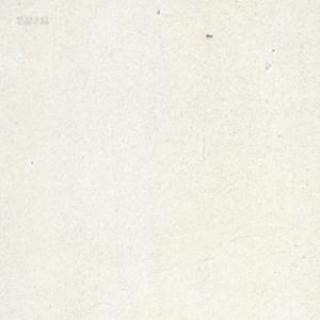Nailtrack_idkeyframe: (205, 32, 212, 37)
